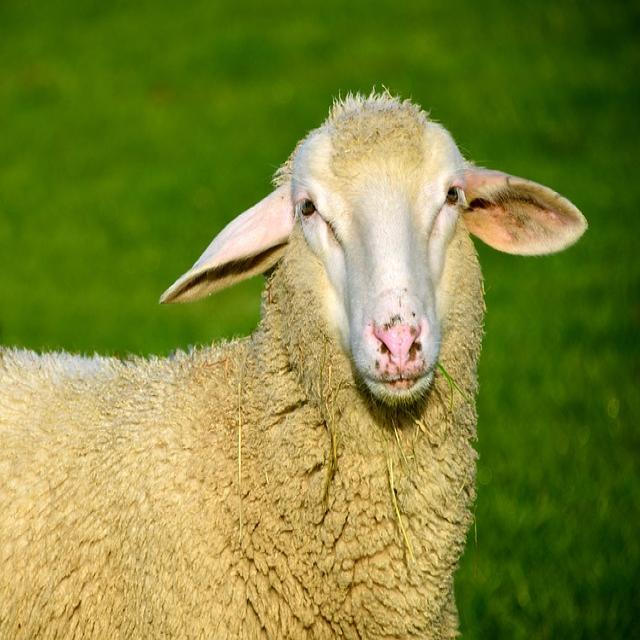goat: (0, 87, 588, 640)
